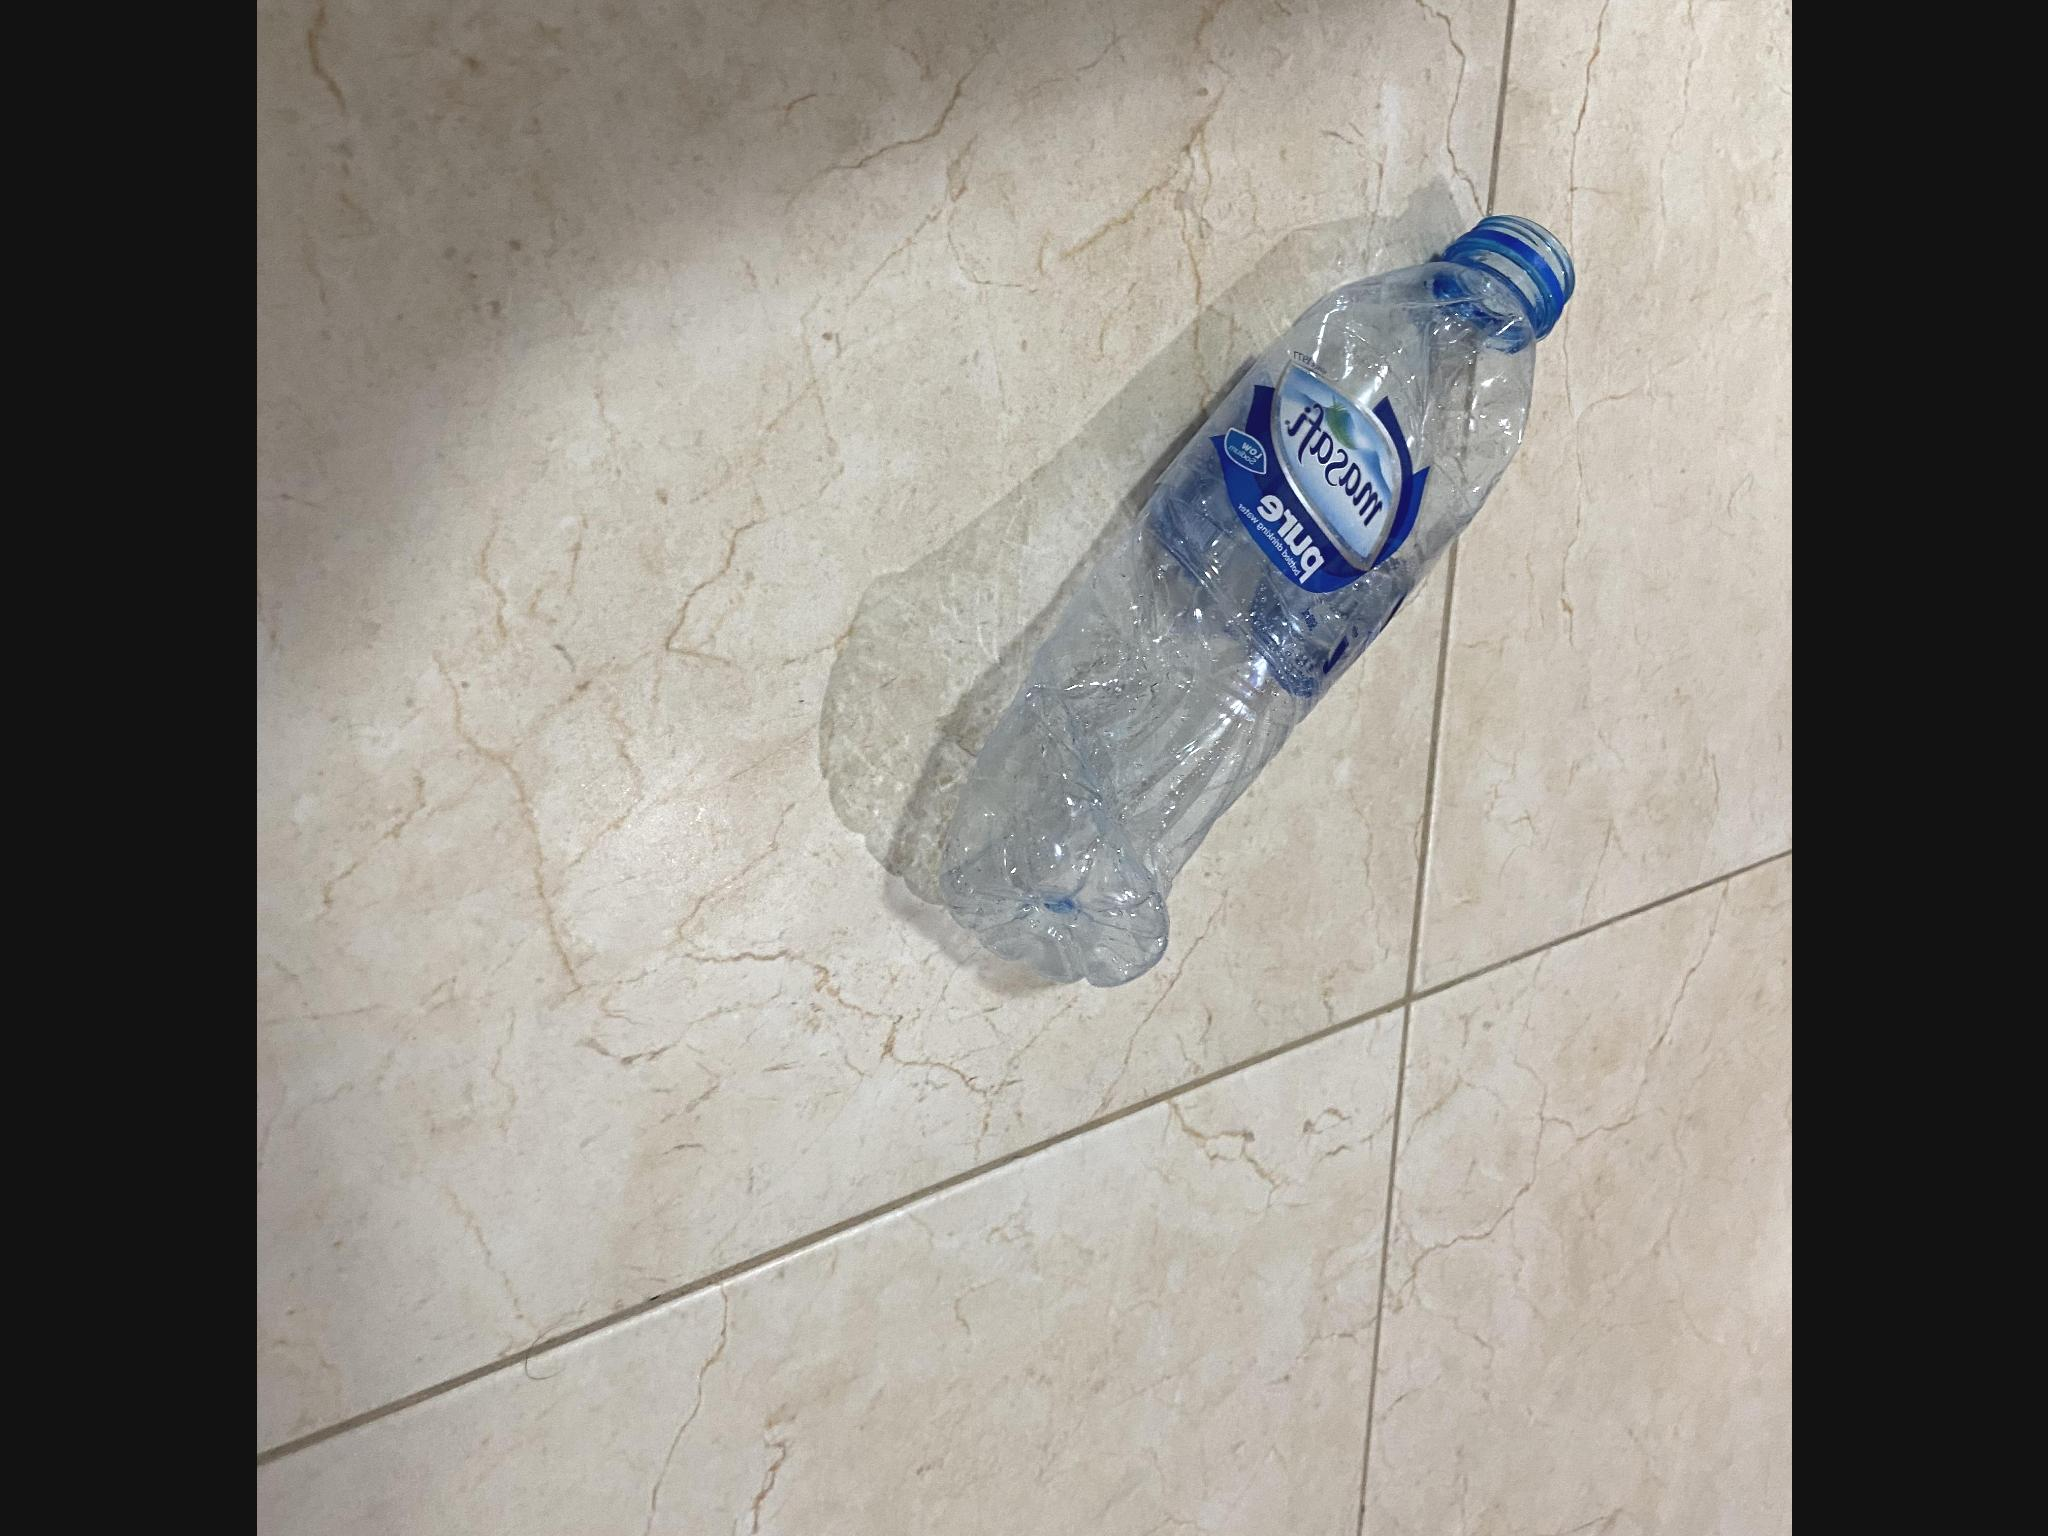bottle: (886, 203, 1600, 1006)
